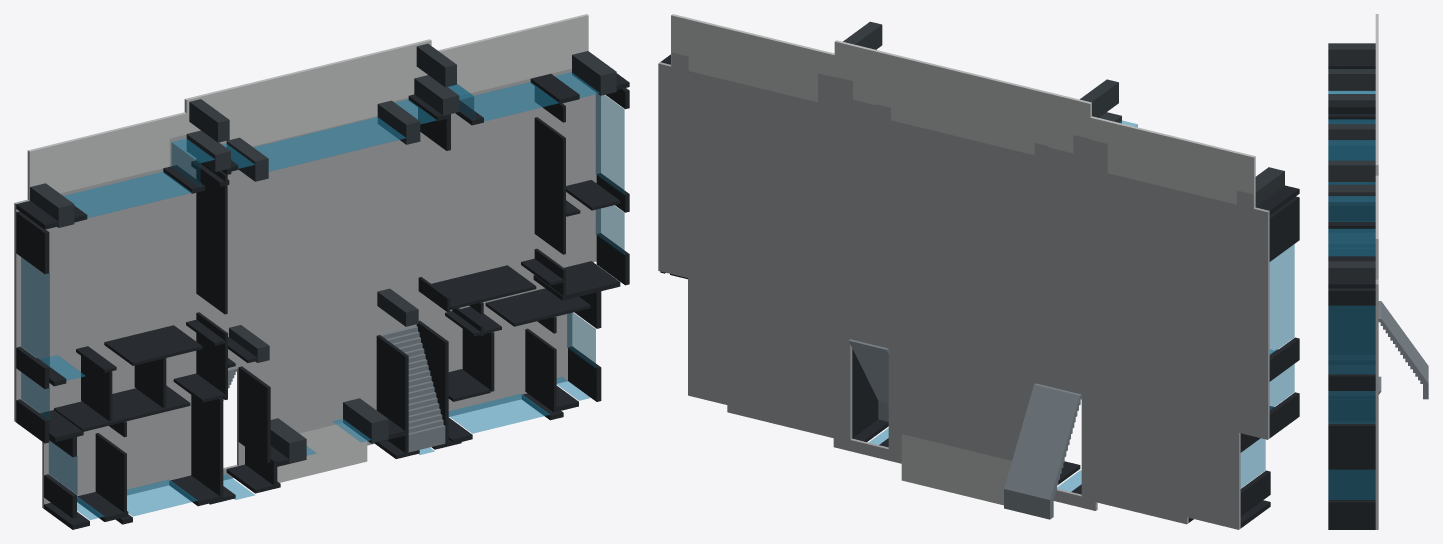
File: villa_1F.obj
3 renders of one model, left to right at view 1: azimuth 30°, elevation 25°; view 2: azimuth 150°, elevation 25°; view 3: azimuth 270°, elevation 25°, orthographic. The views are drawn at different scales.
Parts seen in each view (by area): view 1: 1F_Floor_Main, 1F_Terrace_Main, 1F_Terrace_Left, 1F_Terrace_Dining, 1F_Wall_Interior_001_Garage_GreatRoom, 1F_Wall_Interior_010_Pantry_Kitchen, 1F_Glass_008_GreatRoom_North, 1F_StairB_UpTo2F, 1F_Wall_Interior_013_Corridor_Right_North, 1F_Wall_Interior_005_Service_Guest1, 1F_Wall_Interior_009_StairA_East, 1F_Wall_Interior_002_Garage_Service (+48 smaller); view 2: 1F_Floor_Main, 1F_Terrace_Main, 1F_Terrace_Left, 1F_Terrace_Dining, 1F_StairA_DownToB1, 1F_Entry_Porch, 1F_Glass_002_Garage_West, 1F_Wall_Exterior_001_Garage_NorthWest, 1F_StairB_UpTo2F, 1F_Wall_Interior_017_StairB_East, 1F_Wall_Exterior_010_Ensuite1_West, 1F_Glass_016_Ensuite1_West (+5 smaller); view 3: 1F_Glass_014_Pantry_East, 1F_Wall_Interior_010_Pantry_Kitchen, 1F_Wall_Exterior_019_Ensuite2_East, 1F_Wall_Exterior_008_Pantry_East, 1F_Glass_015_Mudroom_East, 1F_Wall_Interior_001_Garage_GreatRoom, 1F_Wall_Interior_019_Guest2_Ensuite, 1F_Glass_023_Ensuite2_East, 1F_Wall_Exterior_009_Mudroom_EastSouth, 1F_StairA_DownToB1, 1F_Glass_012_Kitchen_North, 1F_Wall_Exterior_007_Kitchen_North (+23 smaller).
Boxes of the visible parts, x1,y1,x2,y2 form: 1F_Floor_Main: [14, 68, 600, 508]; 1F_Terrace_Main: [184, 39, 431, 146]; 1F_Terrace_Left: [27, 112, 186, 200]; 1F_Terrace_Dining: [438, 14, 588, 95]; 1F_Wall_Interior_001_Garage_GreatRoom: [196, 158, 227, 399]; 1F_Wall_Interior_010_Pantry_Kitchen: [534, 86, 565, 254]; 1F_Glass_008_GreatRoom_North: [254, 117, 405, 171]; 1F_StairB_UpTo2F: [380, 326, 445, 452]; 1F_Wall_Interior_013_Corridor_Right_North: [418, 258, 563, 311]; 1F_Wall_Interior_005_Service_Guest1: [54, 373, 225, 431]; 1F_Wall_Interior_009_StairA_East: [238, 366, 277, 485]; 1F_Wall_Interior_002_Garage_Service: [76, 319, 225, 372]; 1F_Floor_Main: [658, 52, 1269, 529]; 1F_Terrace_Main: [834, 40, 1091, 155]; 1F_Terrace_Left: [1090, 116, 1255, 208]; 1F_Terrace_Dining: [671, 14, 834, 102]; 1F_StairA_DownToB1: [1004, 383, 1081, 519]; 1F_Entry_Porch: [901, 434, 1011, 505]; 1F_Glass_002_Garage_West: [1269, 244, 1294, 354]; 1F_Wall_Exterior_001_Garage_NorthWest: [1256, 185, 1299, 261]; 1F_StairB_UpTo2F: [848, 339, 888, 421]; 1F_Wall_Interior_017_StairB_East: [852, 349, 878, 438]; 1F_Wall_Exterior_010_Ensuite1_West: [1240, 433, 1270, 516]; 1F_Glass_016_Ensuite1_West: [1240, 438, 1265, 487]; 1F_Glass_014_Pantry_East: [1328, 305, 1375, 374]; 1F_Wall_Interior_010_Pantry_Kitchen: [1328, 305, 1375, 364]; 1F_Wall_Exterior_019_Ensuite2_East: [1328, 451, 1375, 529]; 1F_Wall_Exterior_008_Pantry_East: [1328, 289, 1375, 390]; 1F_Glass_015_Mudroom_East: [1328, 391, 1375, 423]; 1F_Wall_Interior_001_Garage_GreatRoom: [1328, 120, 1375, 256]; 1F_Wall_Interior_019_Guest2_Ensuite: [1328, 469, 1375, 500]; 1F_Glass_023_Ensuite2_East: [1328, 469, 1375, 499]; 1F_Wall_Exterior_009_Mudroom_EastSouth: [1328, 421, 1375, 450]; 1F_StairA_DownToB1: [1378, 301, 1428, 399]; 1F_Glass_012_Kitchen_North: [1328, 229, 1375, 256]; 1F_Wall_Exterior_007_Kitchen_North: [1328, 221, 1375, 288].
Size of the model in its own units: 37.65 by 24.95 by 6.8.
